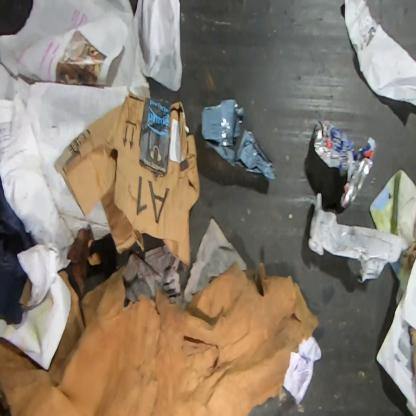cardboard: (53, 93, 200, 266), (408, 326, 415, 382)
metal: (312, 119, 378, 213)
soft_plastic: (201, 100, 277, 182)
